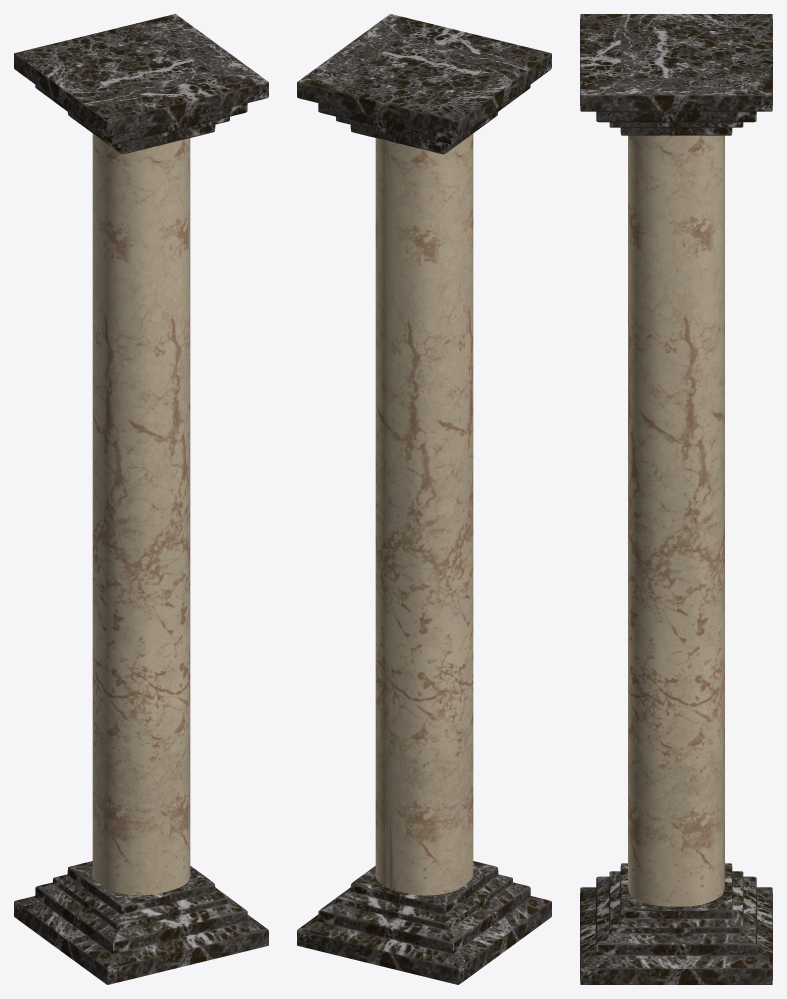
3 renders of one model, left to right at view 1: azimuth 30°, elevation 25°; view 2: azimuth 150°, elevation 25°; view 3: azimuth 270°, elevation 25°, orthographic. The views are drawn at different scales.
Parts seen in each view (by area): view 1: polySurface13; view 2: polySurface13; view 3: polySurface13.
Boxes of the visible parts, x1,y1,x2,y2 form: polySurface13: (14, 14, 268, 984); polySurface13: (297, 14, 551, 984); polySurface13: (580, 14, 772, 984).
Size of the model in its own units: 239 by 1219 by 239.
Materials: 1 (1 with a texture image).
